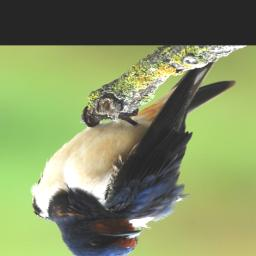Swallow: (29, 58, 238, 256)
